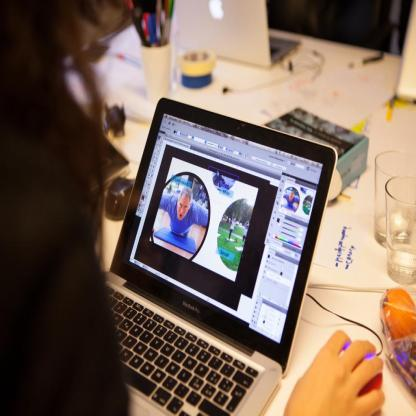board: (103, 96, 337, 416)
